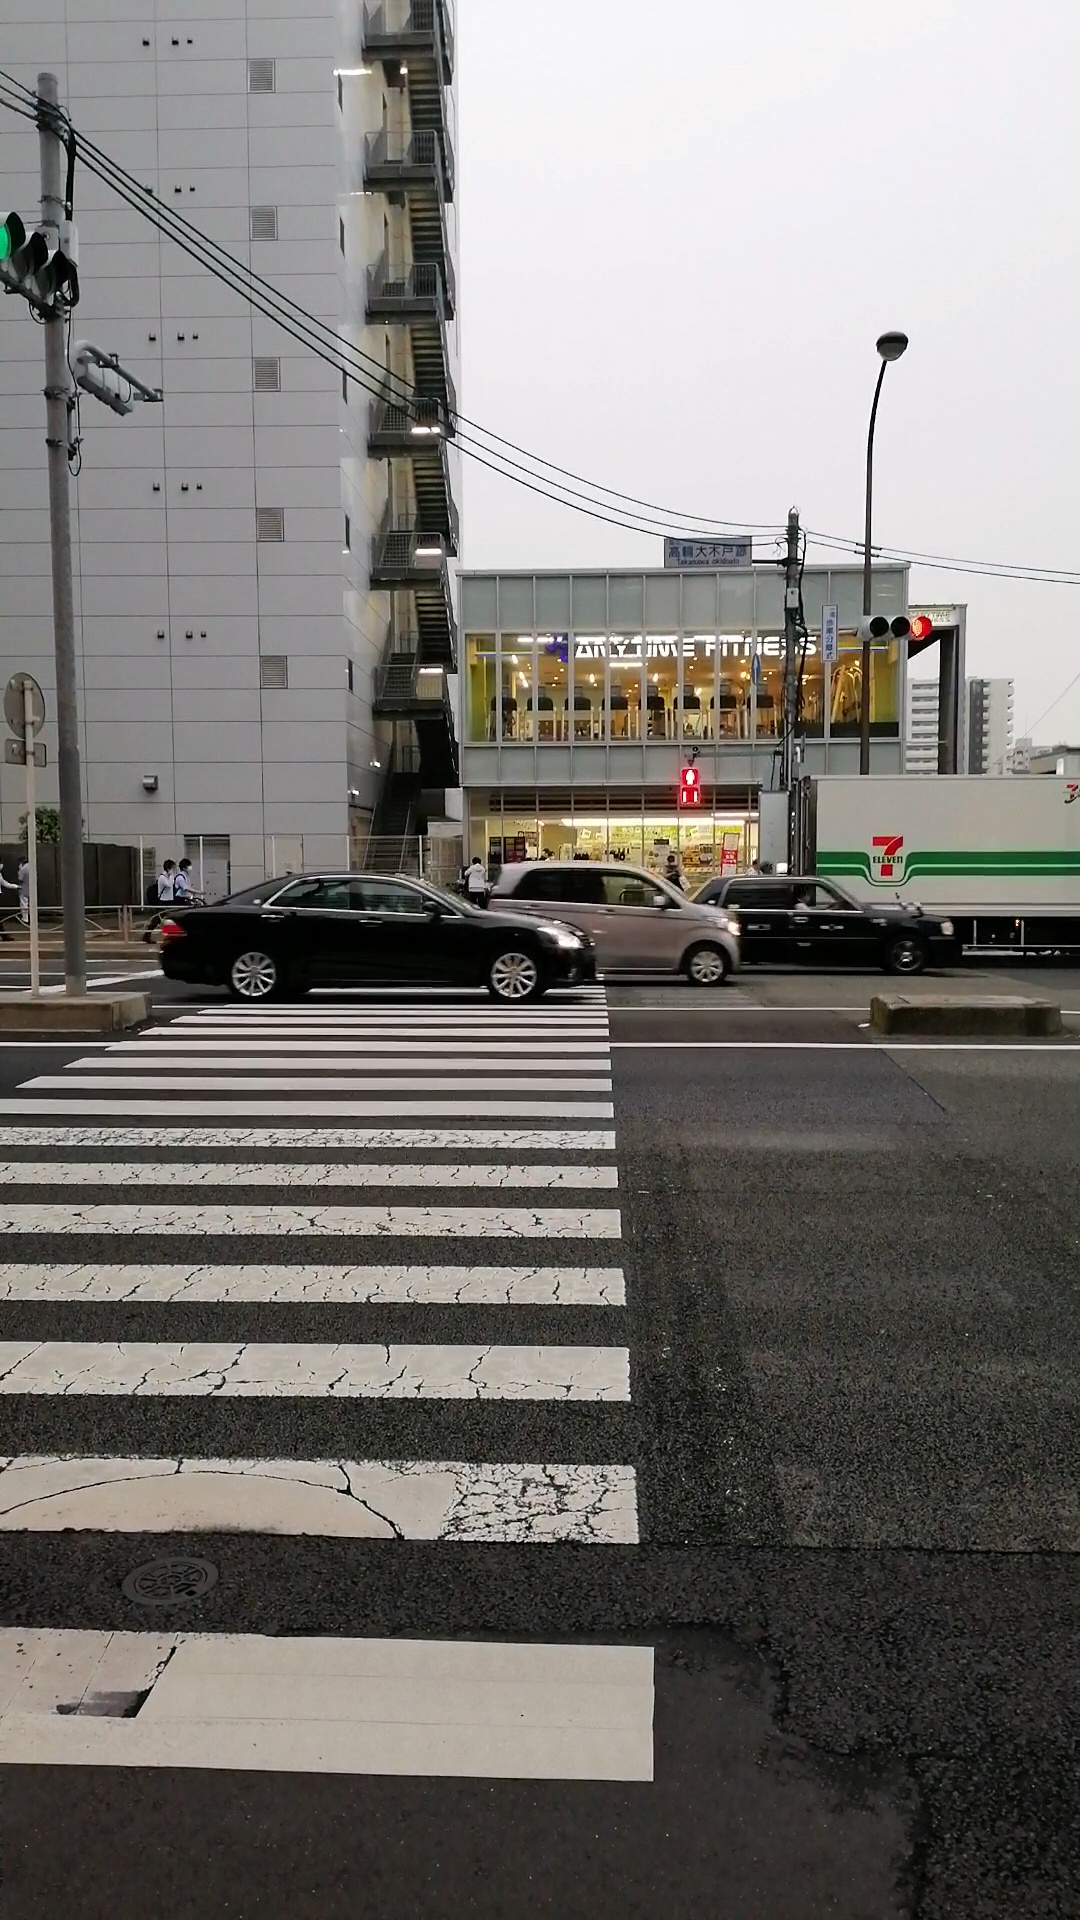red: (679, 766, 700, 804)
